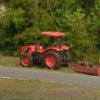Tractor: (14, 19, 76, 76)
